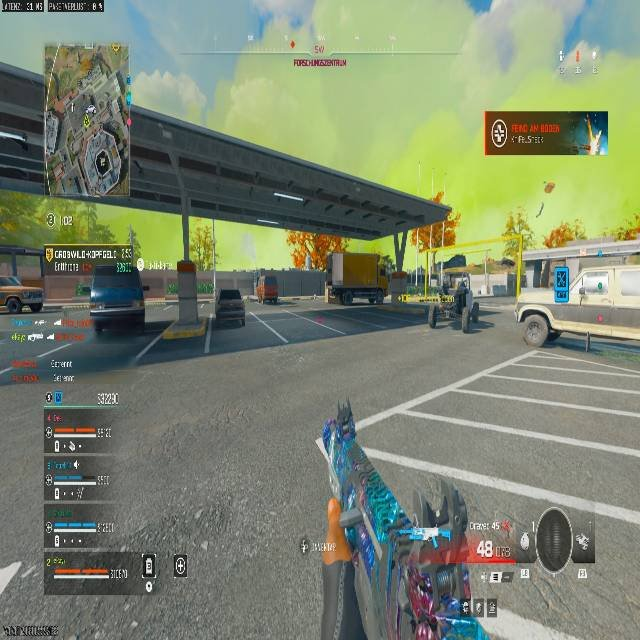player: (457, 279, 482, 332)
